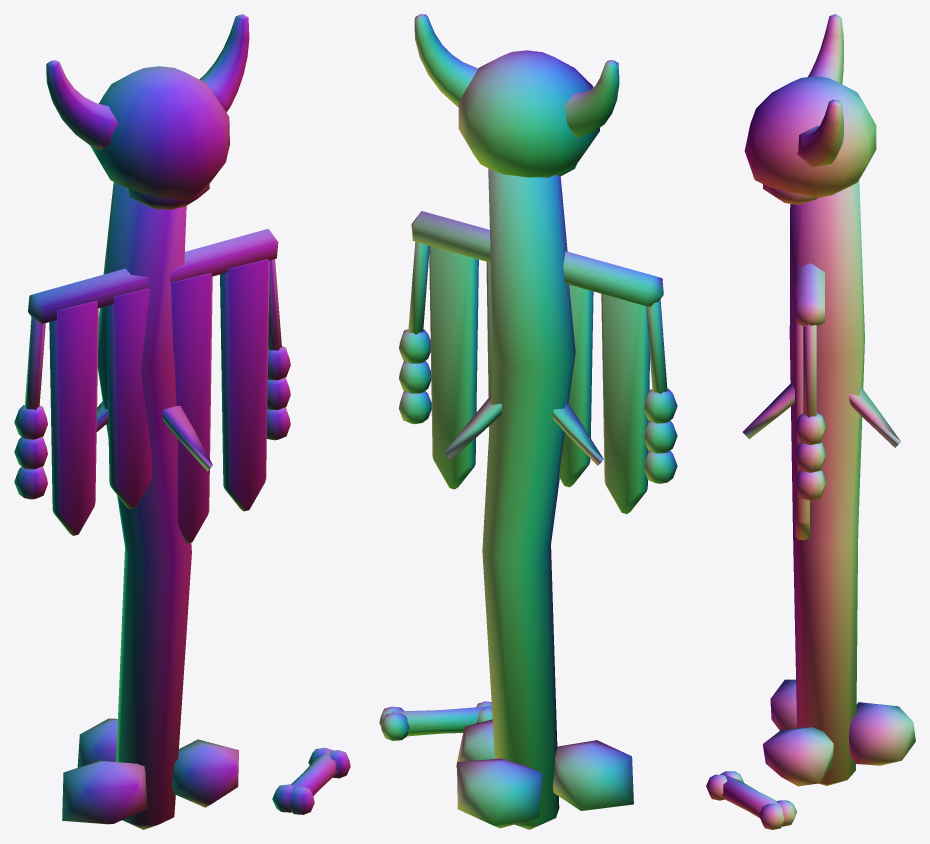
The model's file is SM_Prop_Goblin_BoneTotem.fbx.
3 views of the same model, side by side, from view 1: azimuth 30°, elevation 25°; view 2: azimuth 150°, elevation 25°; view 3: azimuth 270°, elevation 25° (orthographic). The views are drawn at different scales.
Visible parts, largest first — view 1: SM_Prop_Goblin_BoneTotem; view 2: SM_Prop_Goblin_BoneTotem; view 3: SM_Prop_Goblin_BoneTotem.
Boxes of the visible parts, box(x1,y1,x2,y2) form: SM_Prop_Goblin_BoneTotem: box(14, 14, 350, 829); SM_Prop_Goblin_BoneTotem: box(379, 14, 677, 829); SM_Prop_Goblin_BoneTotem: box(706, 14, 915, 829).
Size of the model in its own units: 0.8208 by 1.98 by 0.5151.
